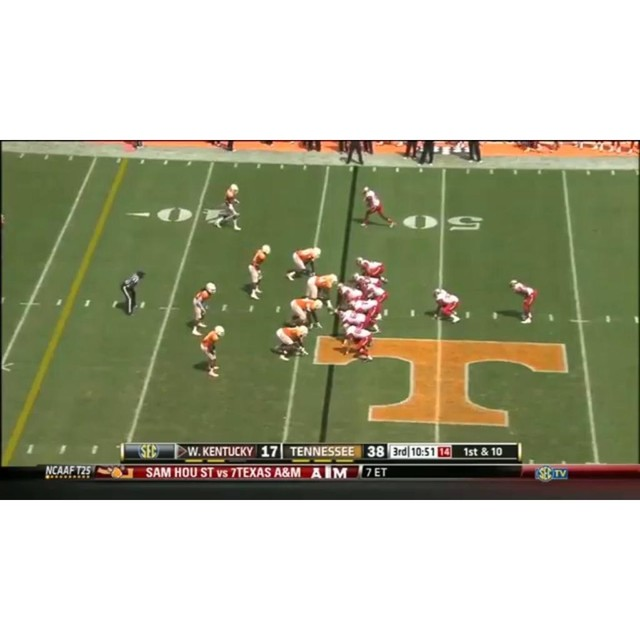american-football-player: (360, 186, 396, 228), (190, 282, 217, 336), (212, 183, 241, 232), (246, 244, 271, 300), (306, 273, 339, 314), (200, 325, 225, 379), (272, 325, 309, 361), (509, 279, 537, 324), (286, 247, 321, 282), (342, 325, 375, 362), (289, 298, 323, 330), (432, 288, 461, 323), (335, 282, 364, 309), (355, 258, 387, 282)
referee: (113, 268, 146, 317)
